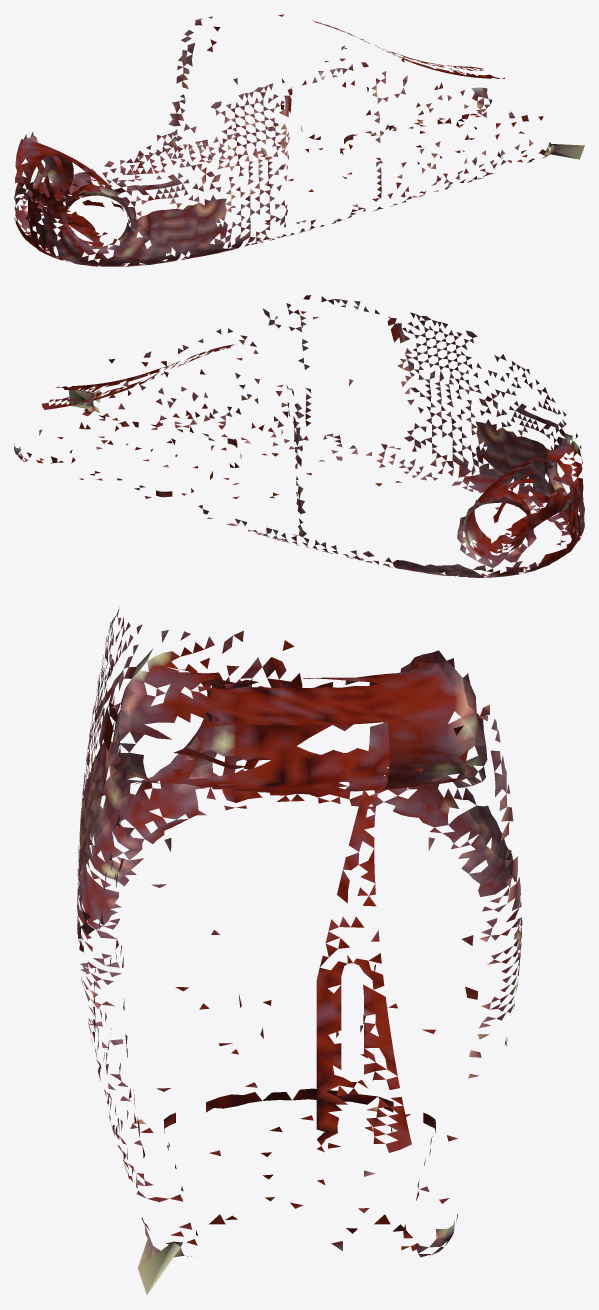
The picture shows the model from 3 angles, top to bottom: view 1: azimuth 30°, elevation 25°; view 2: azimuth 150°, elevation 25°; view 3: azimuth 270°, elevation 25°; orthographic projection. The views are drawn at different scales.
Bounding box in the file's own units: 2.01 × 0.592 × 0.7491.
